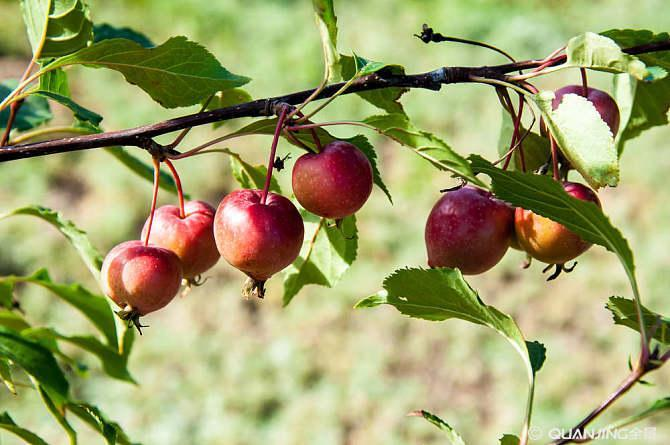apple: (211, 187, 305, 298), (509, 181, 604, 276), (423, 183, 518, 278), (97, 241, 182, 325), (290, 142, 373, 224), (135, 199, 222, 277), (550, 86, 620, 145)
